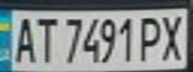1: (115, 14, 139, 63)
4: (78, 13, 100, 64)
7: (60, 13, 84, 64)
9: (100, 15, 118, 63)
A: (9, 13, 39, 64)
P: (136, 12, 166, 62)
T: (33, 13, 60, 64)
X: (157, 11, 190, 62)
